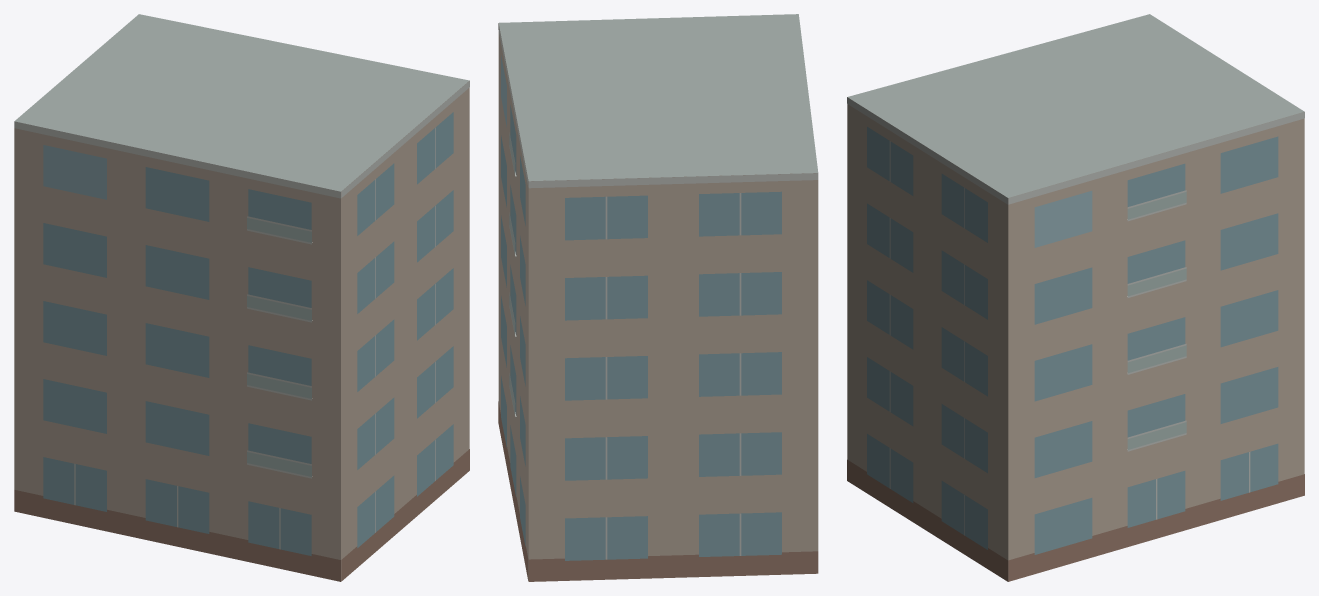
The model's file is survey-upis-33043868.glb.
3 views of the same model, side by side, from view 1: azimuth 30°, elevation 25°; view 2: azimuth 150°, elevation 25°; view 3: azimuth 270°, elevation 25° (orthographic). The views are drawn at different scales.
Parts seen in each view (by area): view 1: survey-upis-33043868.tmp; view 2: survey-upis-33043868.tmp; view 3: survey-upis-33043868.tmp.
Boxes of the visible parts, x1,y1,x2,y2 form: survey-upis-33043868.tmp: (14, 14, 469, 581); survey-upis-33043868.tmp: (498, 14, 818, 581); survey-upis-33043868.tmp: (847, 14, 1304, 581).
Size of the model in its own units: 14.3 by 13.9 by 15.03.
